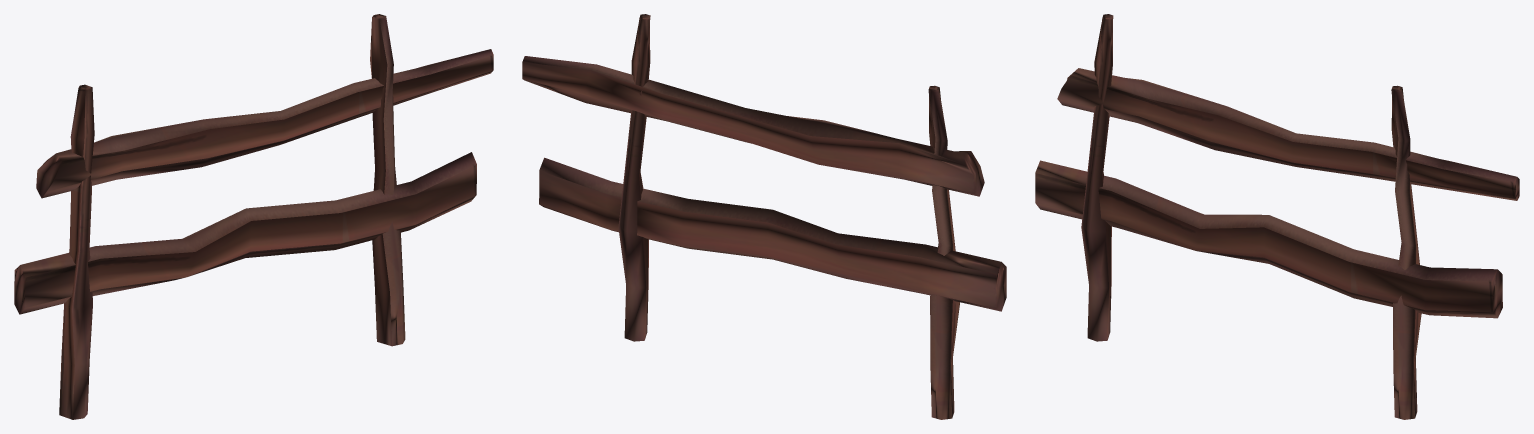
File: Fence_01.fbx
3 views of the same model, side by side, from view 1: azimuth 30°, elevation 25°; view 2: azimuth 150°, elevation 25°; view 3: azimuth 330°, elevation 25° (orthographic).
Visible parts, largest first — view 1: Fence; view 2: Fence; view 3: Fence.
Part boxes in pixels (bbox=[...]): Fence: bbox=[14, 14, 493, 419]; Fence: bbox=[522, 14, 1006, 419]; Fence: bbox=[1035, 14, 1519, 419].
Size of the model in its own units: 146063 by 95396 by 9798.
